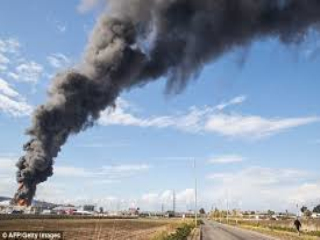smoke: (12, 14, 181, 213)
